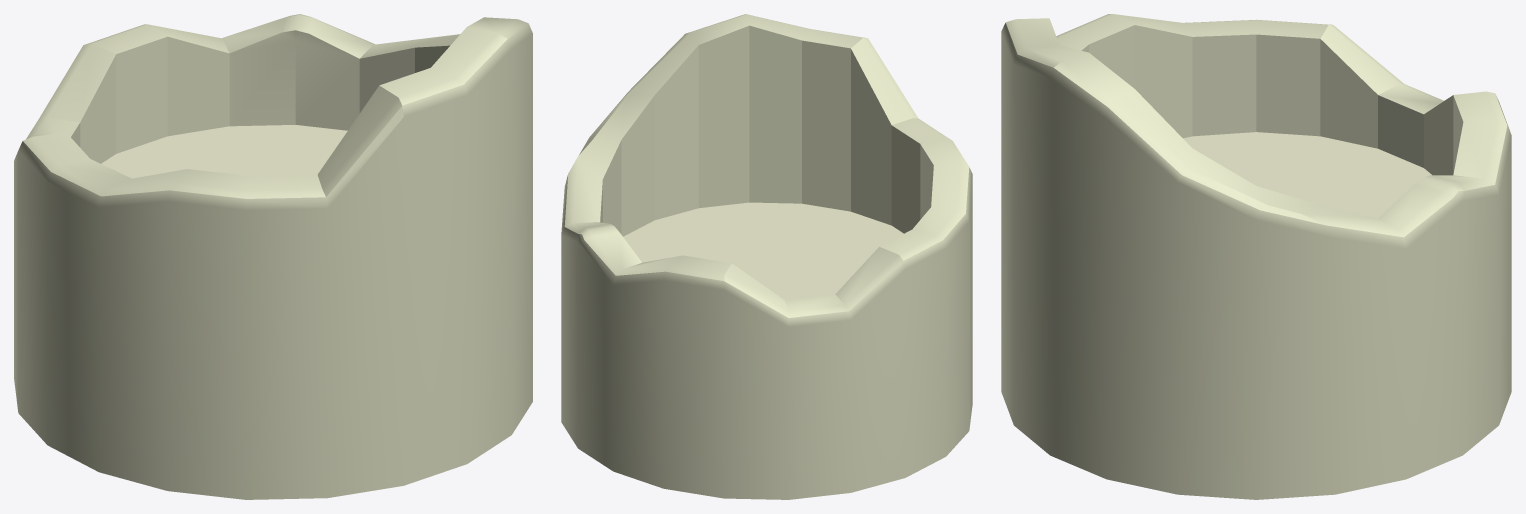
File: Horror_Large_Candle_Melted.fbx
The picture shows the model from 3 angles, left to right: view 1: azimuth 30°, elevation 25°; view 2: azimuth 150°, elevation 25°; view 3: azimuth 270°, elevation 25°; orthographic projection. The views are drawn at different scales.
Visible parts, largest first — view 1: pCylinder62; view 2: pCylinder62; view 3: pCylinder62.
Part boxes in pixels (box(x1,y1,x2,y2)): pCylinder62: box(14, 14, 532, 499); pCylinder62: box(561, 14, 972, 499); pCylinder62: box(1001, 14, 1511, 499).
Size of the model in its own units: 19.9 by 16.83 by 19.9.
